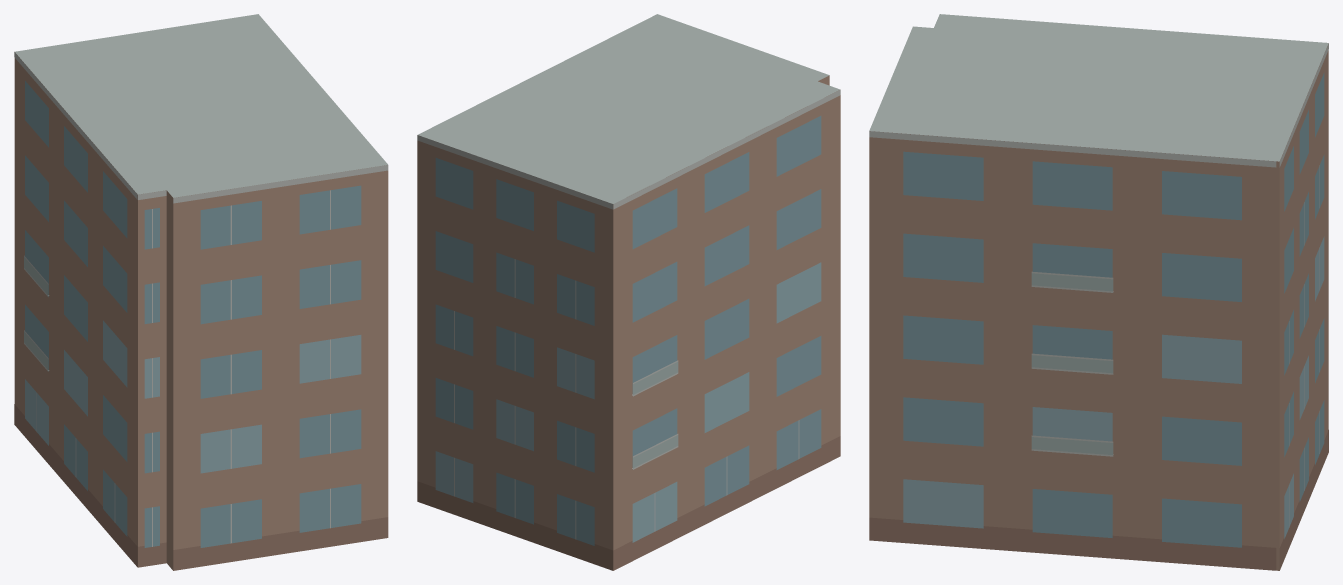
File: survey-upis-32765864.glb
3 views of the same model, side by side, from view 1: azimuth 30°, elevation 25°; view 2: azimuth 150°, elevation 25°; view 3: azimuth 270°, elevation 25° (orthographic). The views are drawn at different scales.
Visible parts, largest first — view 1: survey-upis-32765864.tmp; view 2: survey-upis-32765864.tmp; view 3: survey-upis-32765864.tmp.
Part boxes in pixels (<box>): survey-upis-32765864.tmp: <box>14,14,388,570</box>; survey-upis-32765864.tmp: <box>417,14,840,570</box>; survey-upis-32765864.tmp: <box>869,14,1328,570</box>.
Size of the model in its own units: 12.45 by 16.1 by 16.39.
